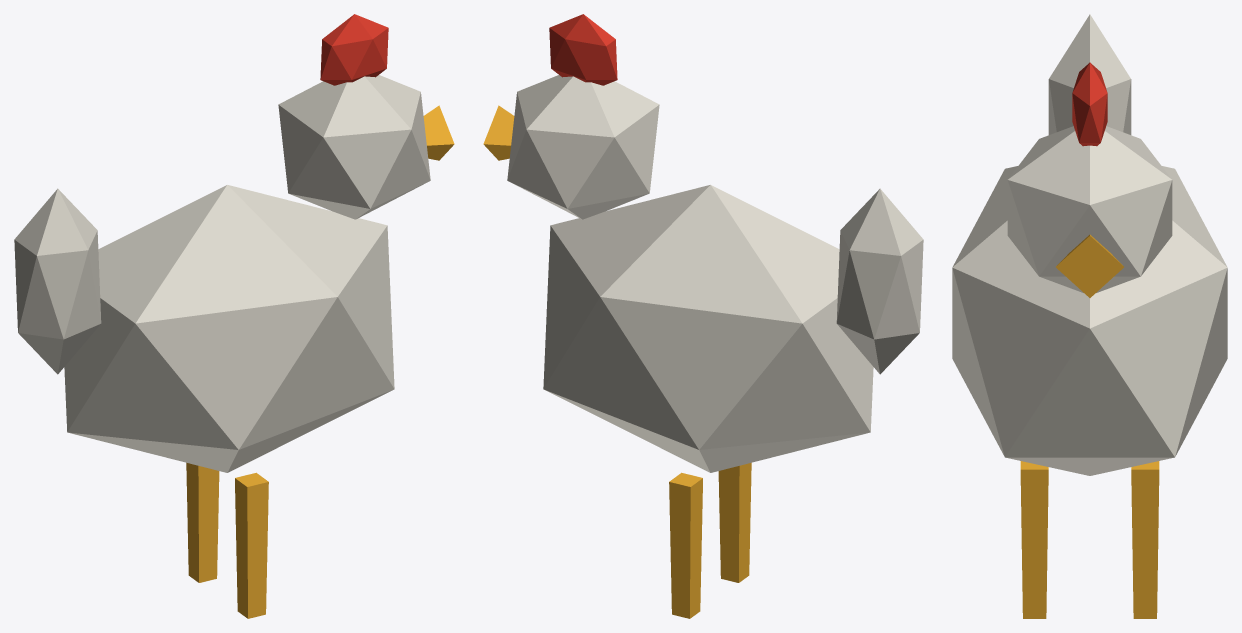
The model's file is chicken.glb.
3 renders of one model, left to right at view 1: azimuth 30°, elevation 25°; view 2: azimuth 150°, elevation 25°; view 3: azimuth 270°, elevation 25°, orthographic. The views are drawn at different scales.
Visible parts, largest first — view 1: chicken; view 2: chicken; view 3: chicken.
Part boxes in pixels (x1,y1,x2,y2): chicken: (14,14,454,618); chicken: (483,14,923,618); chicken: (952,14,1227,618).
Size of the model in its own units: 0.3976 by 0.496 by 0.199.
